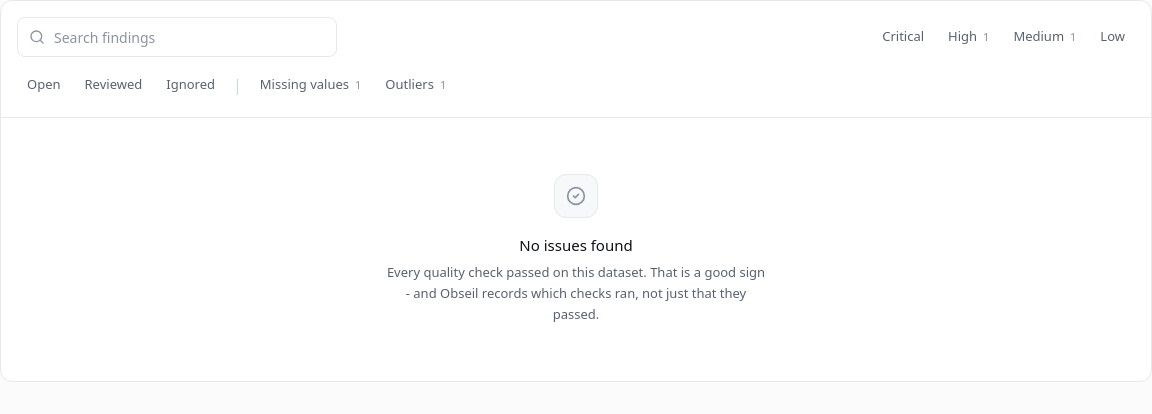
Test: DatasetFindingsPage › distinguishes "no results" from "nothing wrong"
This screenshot has width=1152, height=414.
Expected: the text "No issues found" is shown, [519,234,633,256]
Type "zzz" into the field labelled "Search findings" at (177, 37), box [17,17,337,57]
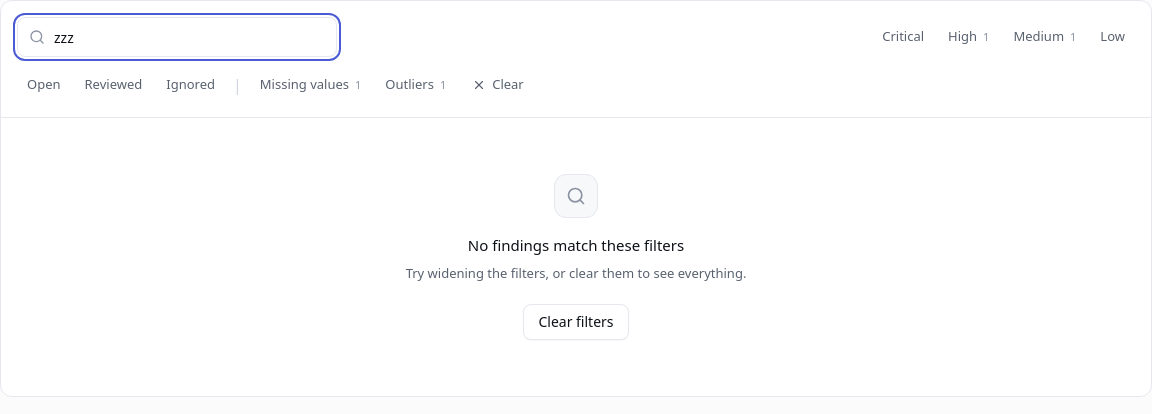
Expected: the text "No findings match these filters" is shown, [468,234,684,256]
Expected: the button "Clear filters" is shown, [523,304,628,340]
